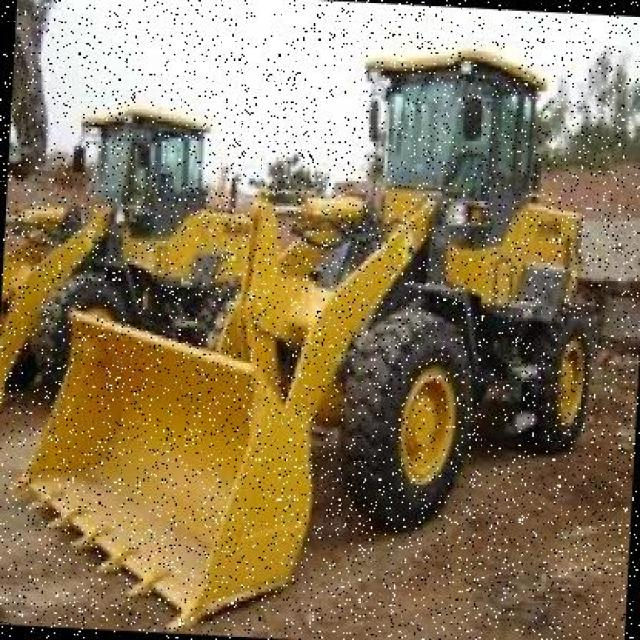buldozerpayloadergrader: (13, 10, 615, 628), (0, 90, 266, 424)
